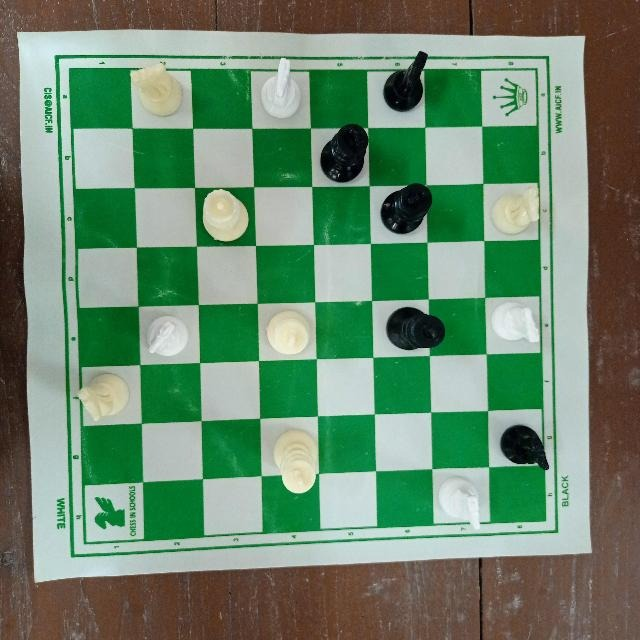black-king: (381, 302, 449, 355), (318, 121, 369, 185), (380, 180, 436, 238)
black-knight: (380, 45, 436, 116), (496, 417, 558, 480)
white-king: (265, 421, 320, 497), (254, 305, 315, 359)
white-knight: (254, 54, 306, 122), (128, 58, 185, 120), (432, 472, 488, 535), (71, 368, 136, 422), (486, 184, 548, 238), (484, 301, 546, 351), (140, 307, 192, 362)
white-queen: (197, 188, 253, 245)
